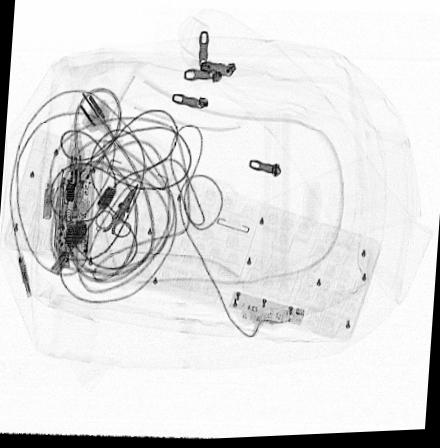Scissors: (95, 183, 140, 240)
